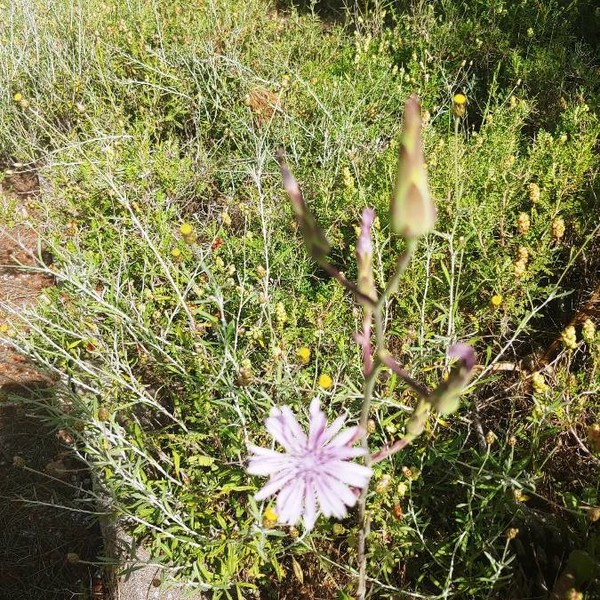obstacle: (100, 101, 506, 369), (211, 371, 409, 575)
